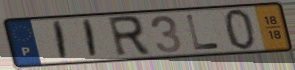0: (222, 8, 258, 52)
3: (149, 15, 182, 54)
I: (52, 20, 69, 62), (82, 18, 99, 60)
L: (183, 13, 222, 52)
R: (105, 14, 153, 59)
